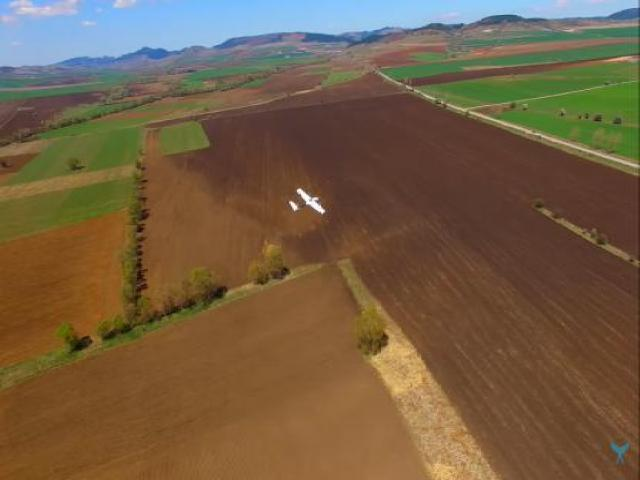uav: (281, 180, 328, 220)
